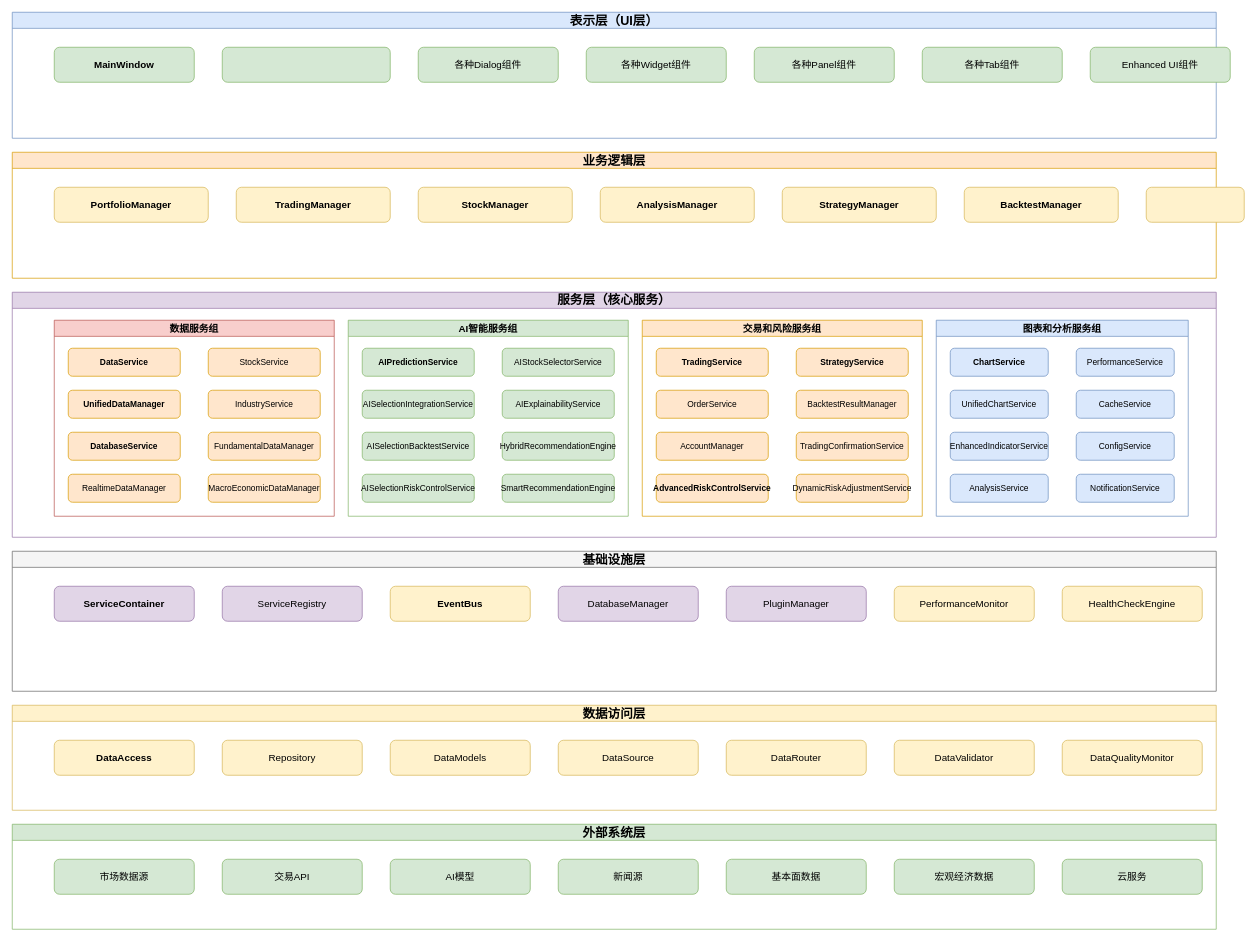
Some shapes in this 1257 by 942 pixel diagram are drawn without their labels. The shapes that lost their labels are listed below. From the top down, each one's centre as x and y in pixels, then its label:
At point (306, 64): "MainWindowCoordinator".
At point (1195, 204): "RiskManager".
